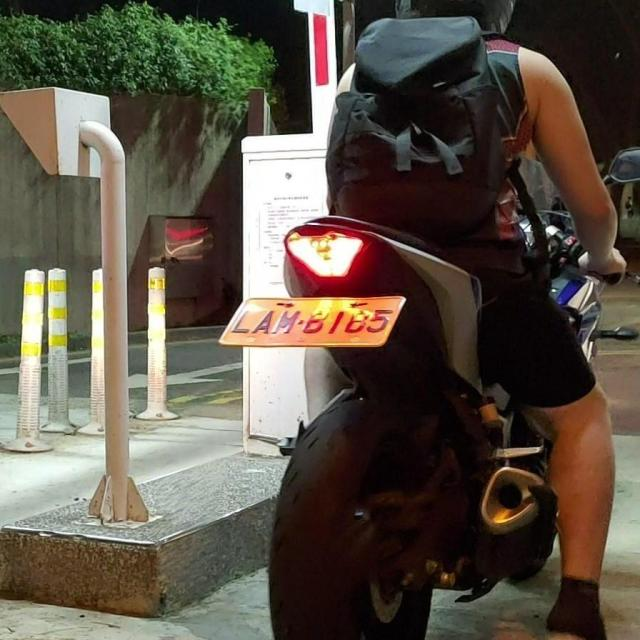Y: (254, 293, 408, 348)
